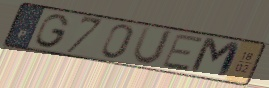0: (100, 23, 137, 60)
7: (63, 15, 106, 55)
E: (160, 33, 205, 73)
G: (34, 13, 72, 49)
M: (187, 36, 244, 81)
U: (130, 25, 176, 67)
